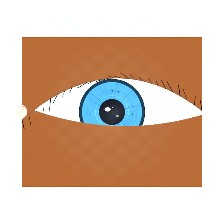pinguecula_lesion: (150, 97, 186, 126)
